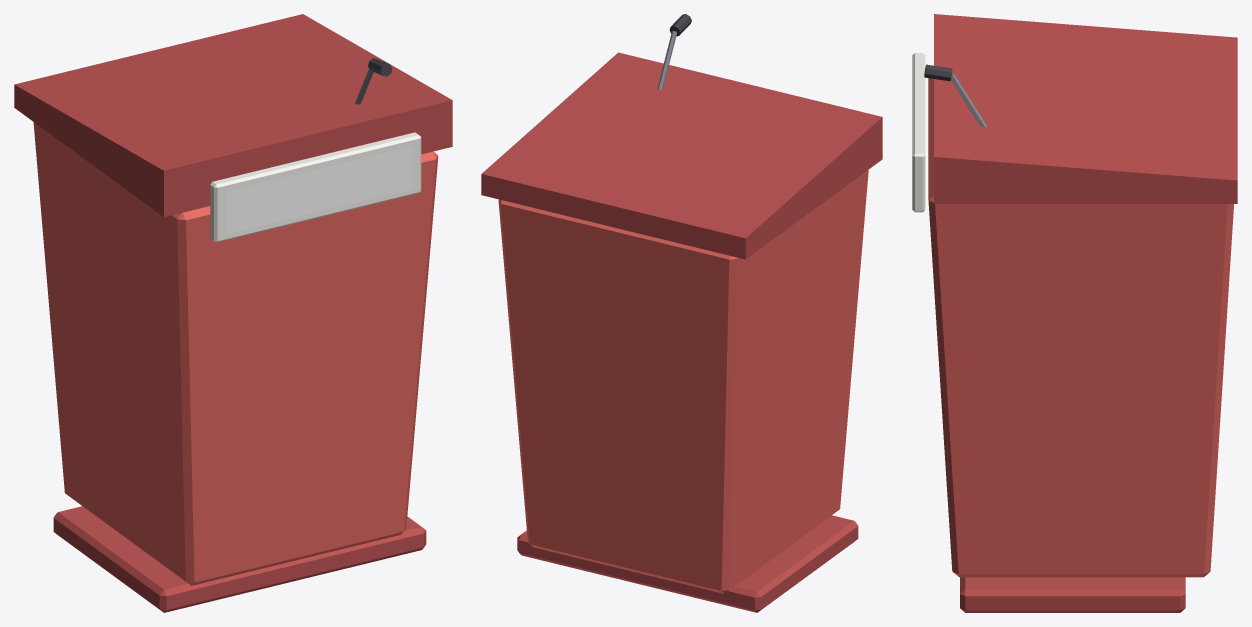
Rendered from prop_debate_lectern_01.glb.
3 renders of one model, left to right at view 1: azimuth 30°, elevation 25°; view 2: azimuth 150°, elevation 25°; view 3: azimuth 270°, elevation 25°, orthographic. The views are drawn at different scales.
Visible parts, largest first — view 1: prop_debate_lectern_01_body; view 2: prop_debate_lectern_01_body; view 3: prop_debate_lectern_01_body.
Boxes of the visible parts, x1,y1,x2,y2 form: prop_debate_lectern_01_body: (14, 14, 452, 612); prop_debate_lectern_01_body: (481, 14, 882, 612); prop_debate_lectern_01_body: (912, 14, 1237, 612).
Size of the model in its own units: 0.78 by 1.33 by 0.752.
